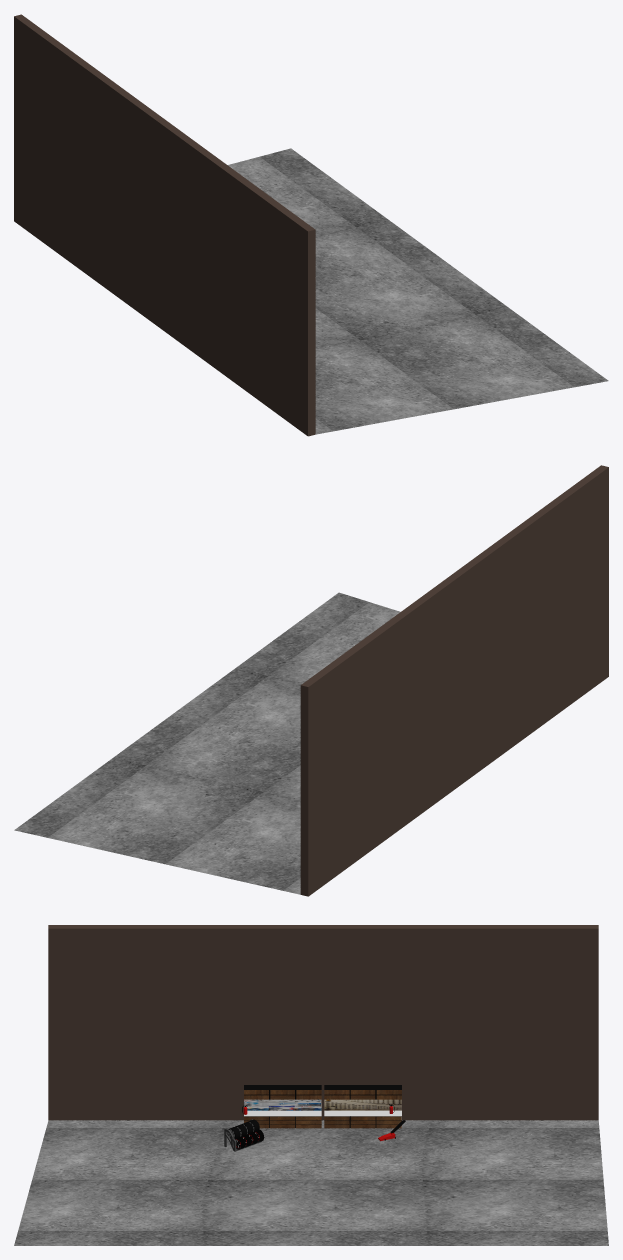
The model's file is GarageBG.glb.
3 renders of one model, top to bottom at view 1: azimuth 30°, elevation 25°; view 2: azimuth 150°, elevation 25°; view 3: azimuth 270°, elevation 25°, orthographic. The views are drawn at different scales.
Parts seen in each view (by area): view 1: Building; view 2: Building; view 3: Building.
Part boxes in pixels (x1=…): Building: x1=14, y1=14, x2=608, y2=436; Building: x1=14, y1=465, x2=608, y2=896; Building: x1=14, y1=925, x2=608, y2=1245.
Bounding box in the file's own units: 166 × 115 × 323.
13 materials, 4 textured.
